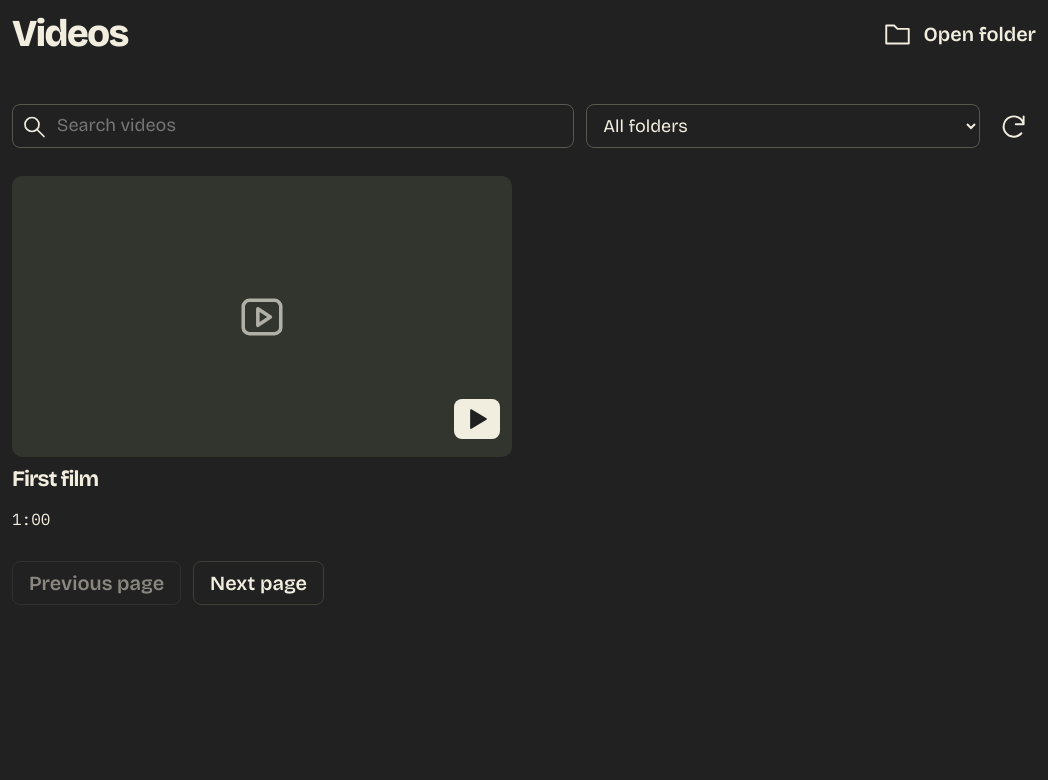
Test: retries the same previous page if the first request fails
Click the button "Next page". click: {"x": 259, "y": 583}
box: x1=193 y1=561 x2=324 y2=605
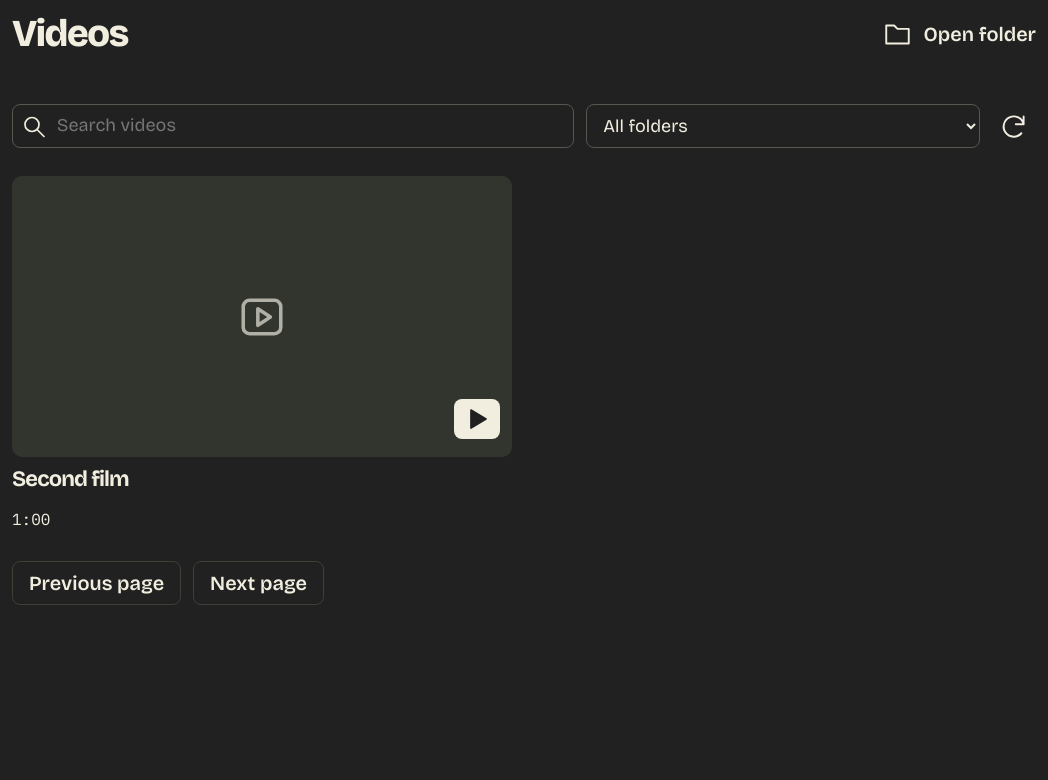
Check: the button with aria-label "Play Second film" is shown, box x1=12 y1=176 x2=512 y2=541
Click the button "Next page". click: {"x": 259, "y": 583}
box: x1=193 y1=561 x2=324 y2=605
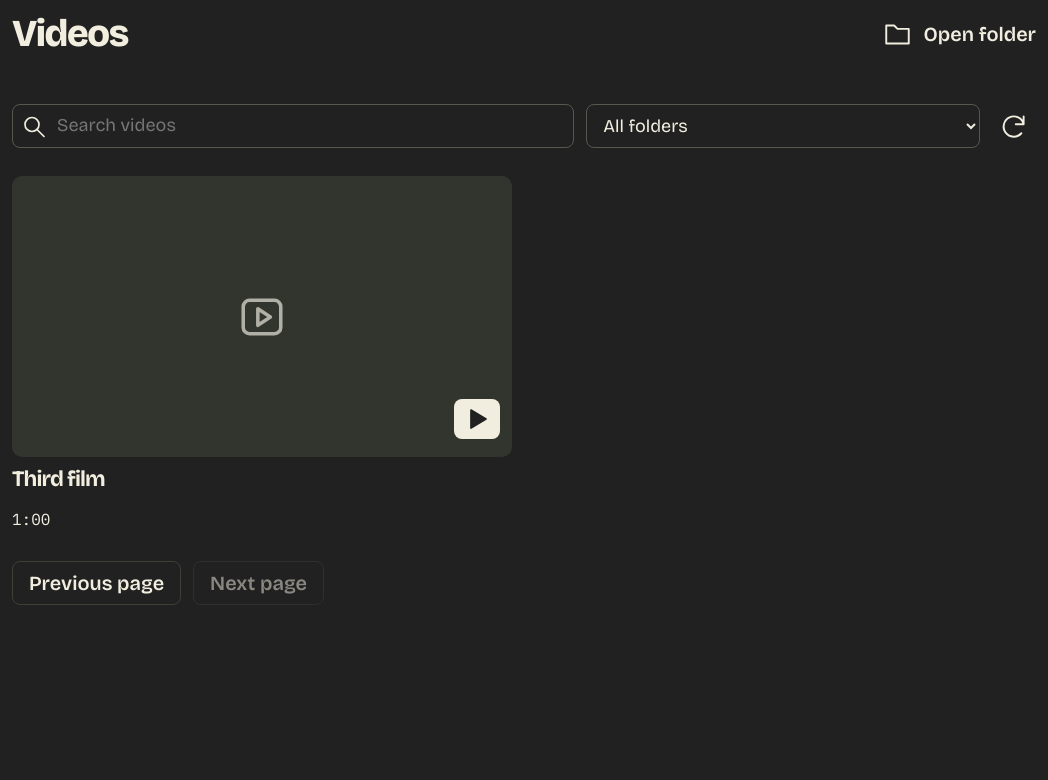
Check: the button with aria-label "Play Third film" is shown, box x1=12 y1=176 x2=512 y2=541
Click the button "Previous page". click: {"x": 97, "y": 583}
box: x1=12 y1=561 x2=181 y2=605
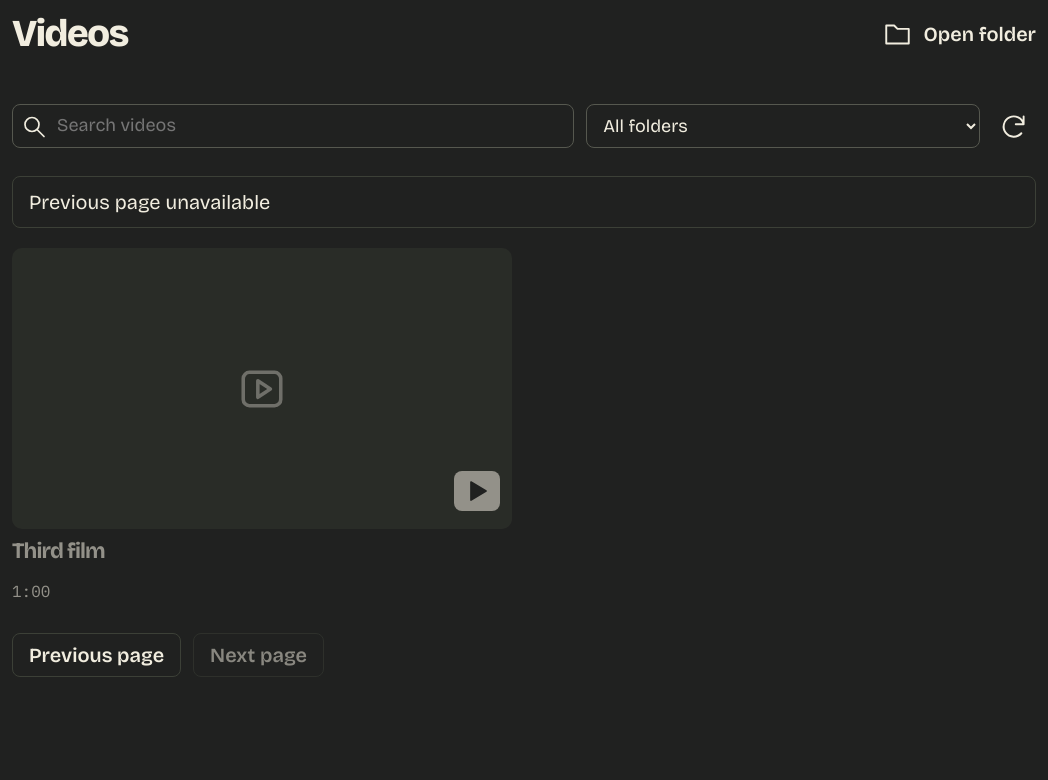
Check: the message reads "Previous page unavailable", box x1=29 y1=190 x2=270 y2=214
Click the button "Previous page". click: {"x": 97, "y": 655}
box: x1=12 y1=633 x2=181 y2=677
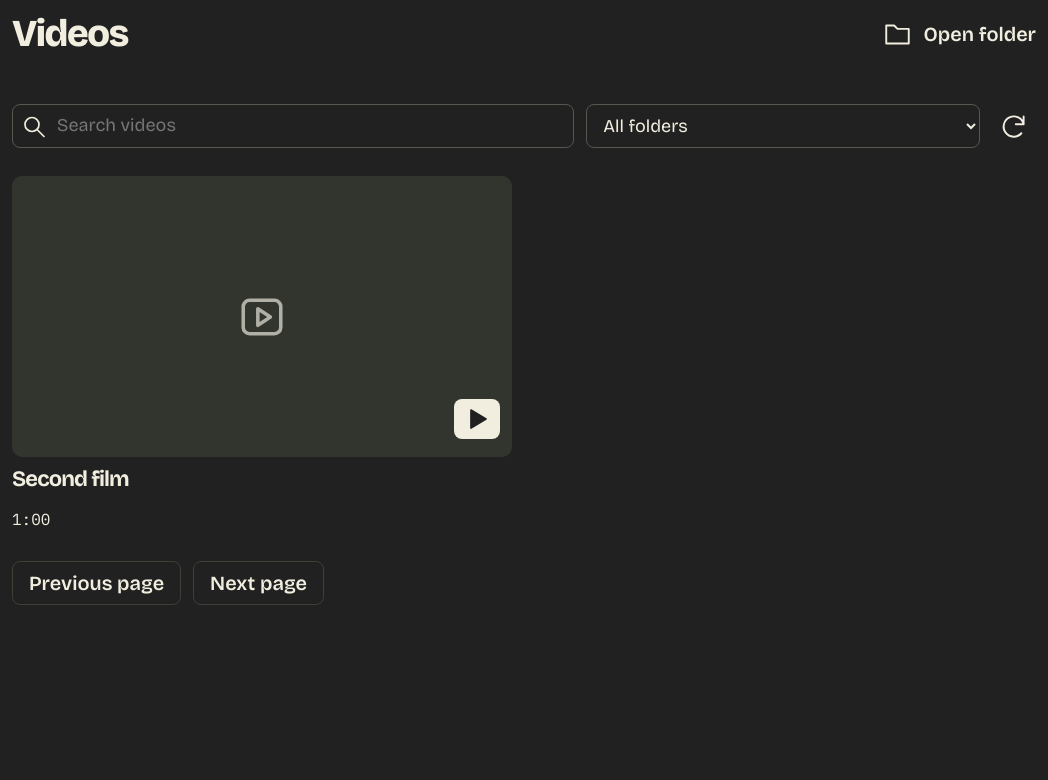
Check: the button with aria-label "Play Second film" is enabled, box x1=12 y1=176 x2=512 y2=541
